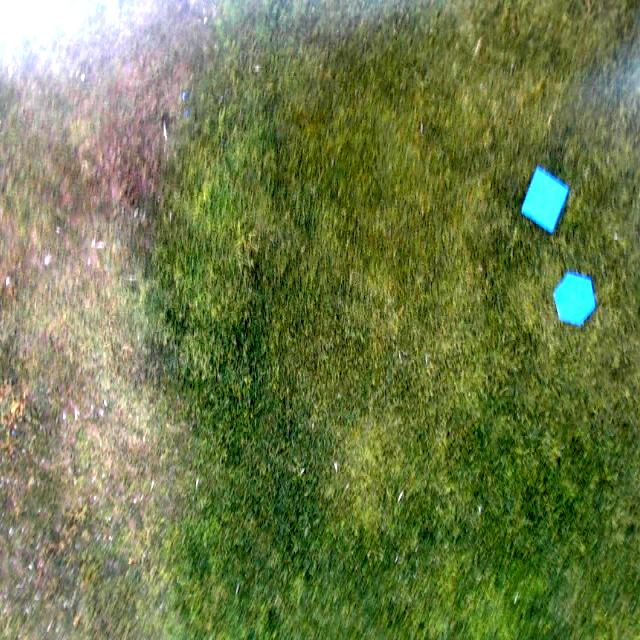blue_hexagon: (553, 272, 597, 328)
blue_square: (522, 167, 570, 233)
